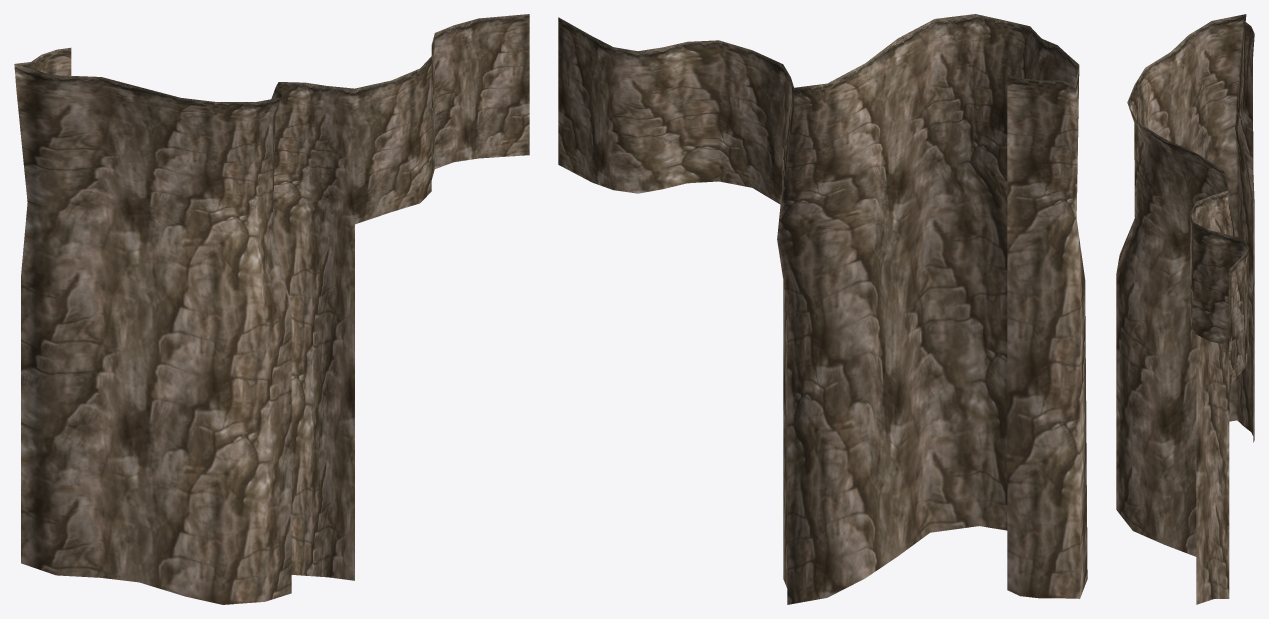
Rendered from OVERHILL_A_01_OBJECT43.fbx.
3 renders of one model, left to right at view 1: azimuth 30°, elevation 25°; view 2: azimuth 150°, elevation 25°; view 3: azimuth 270°, elevation 25°, orthographic. The views are drawn at different scales.
Parts seen in each view (by area): view 1: OVERHILL_A_01_OBJECT43; view 2: OVERHILL_A_01_OBJECT43; view 3: OVERHILL_A_01_OBJECT43.
Part boxes in pixels (x1,y1,x2,y2): OVERHILL_A_01_OBJECT43: [14, 14, 529, 604]; OVERHILL_A_01_OBJECT43: [558, 14, 1087, 604]; OVERHILL_A_01_OBJECT43: [1116, 14, 1254, 604].
Bounding box in the file's own units: 180537 × 196020 × 52276.
Materials: 2 (2 with a texture image).
